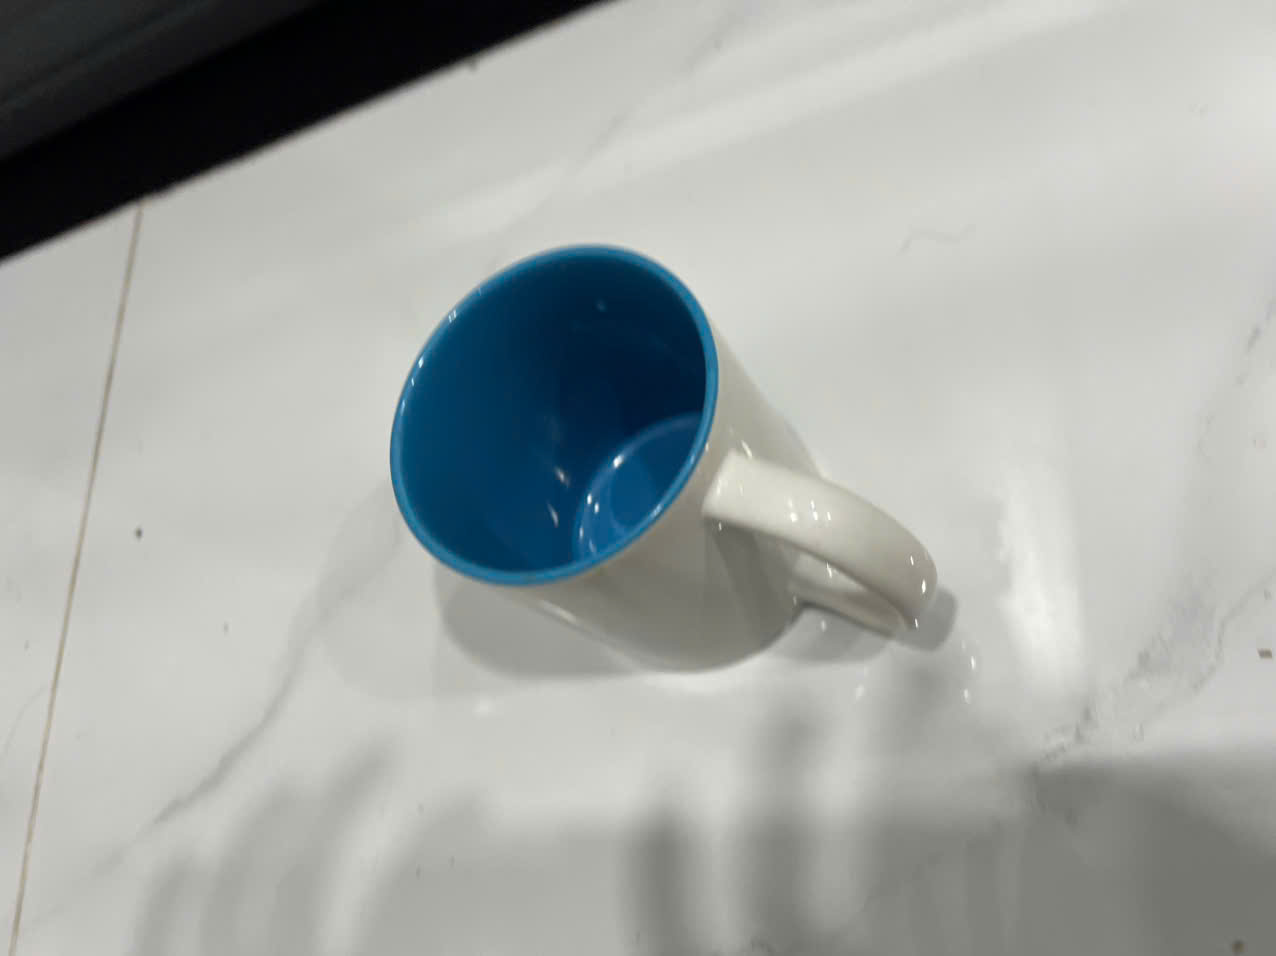ly coc: (346, 237, 945, 713)
